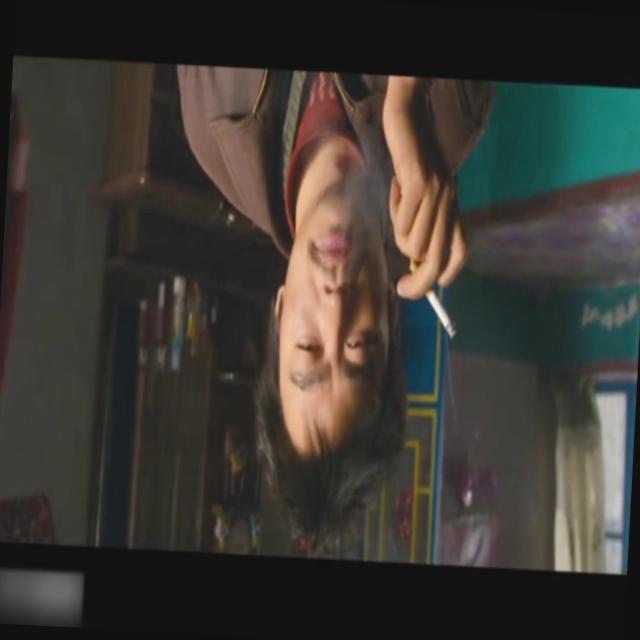cigarette: (422, 289, 461, 340)
